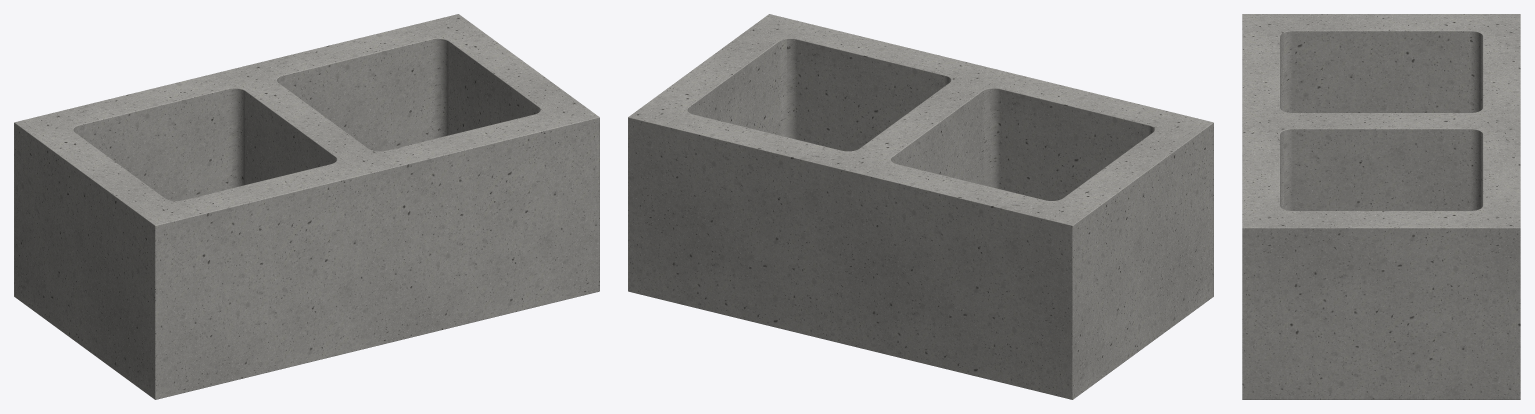
The model's file is hollow-concrete-block.glb.
The picture shows the model from 3 angles, left to right: view 1: azimuth 30°, elevation 25°; view 2: azimuth 150°, elevation 25°; view 3: azimuth 270°, elevation 25°; orthographic projection.
Visible parts, largest first — view 1: HollowBlock; view 2: HollowBlock; view 3: HollowBlock.
Part boxes in pixels (x1=…): HollowBlock: x1=14, y1=14, x2=599, y2=399; HollowBlock: x1=628, y1=14, x2=1213, y2=399; HollowBlock: x1=1242, y1=14, x2=1520, y2=399.
Bounding box in the file's own units: 0.4 × 0.15 × 0.22.
Materials: 1 (1 with a texture image).
